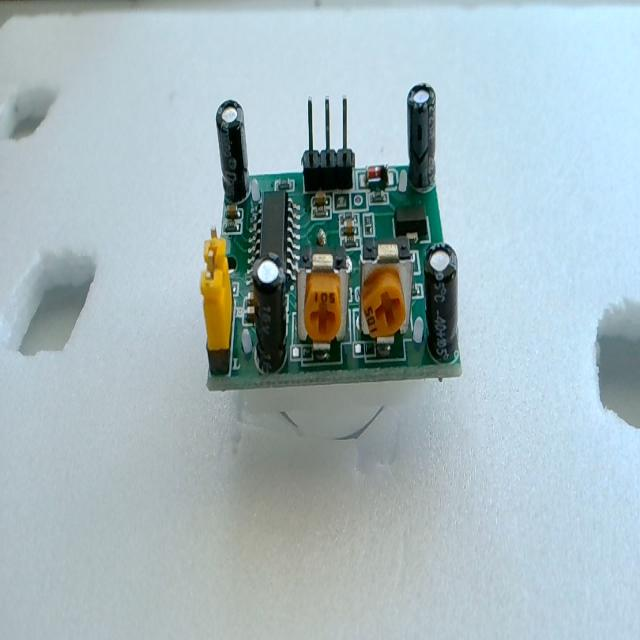Electrolytic capacitor: (251, 254, 288, 372), (424, 242, 460, 361), (215, 98, 250, 206), (406, 80, 436, 193)
IC: (249, 194, 297, 286)
pinheader: (295, 89, 358, 199)
